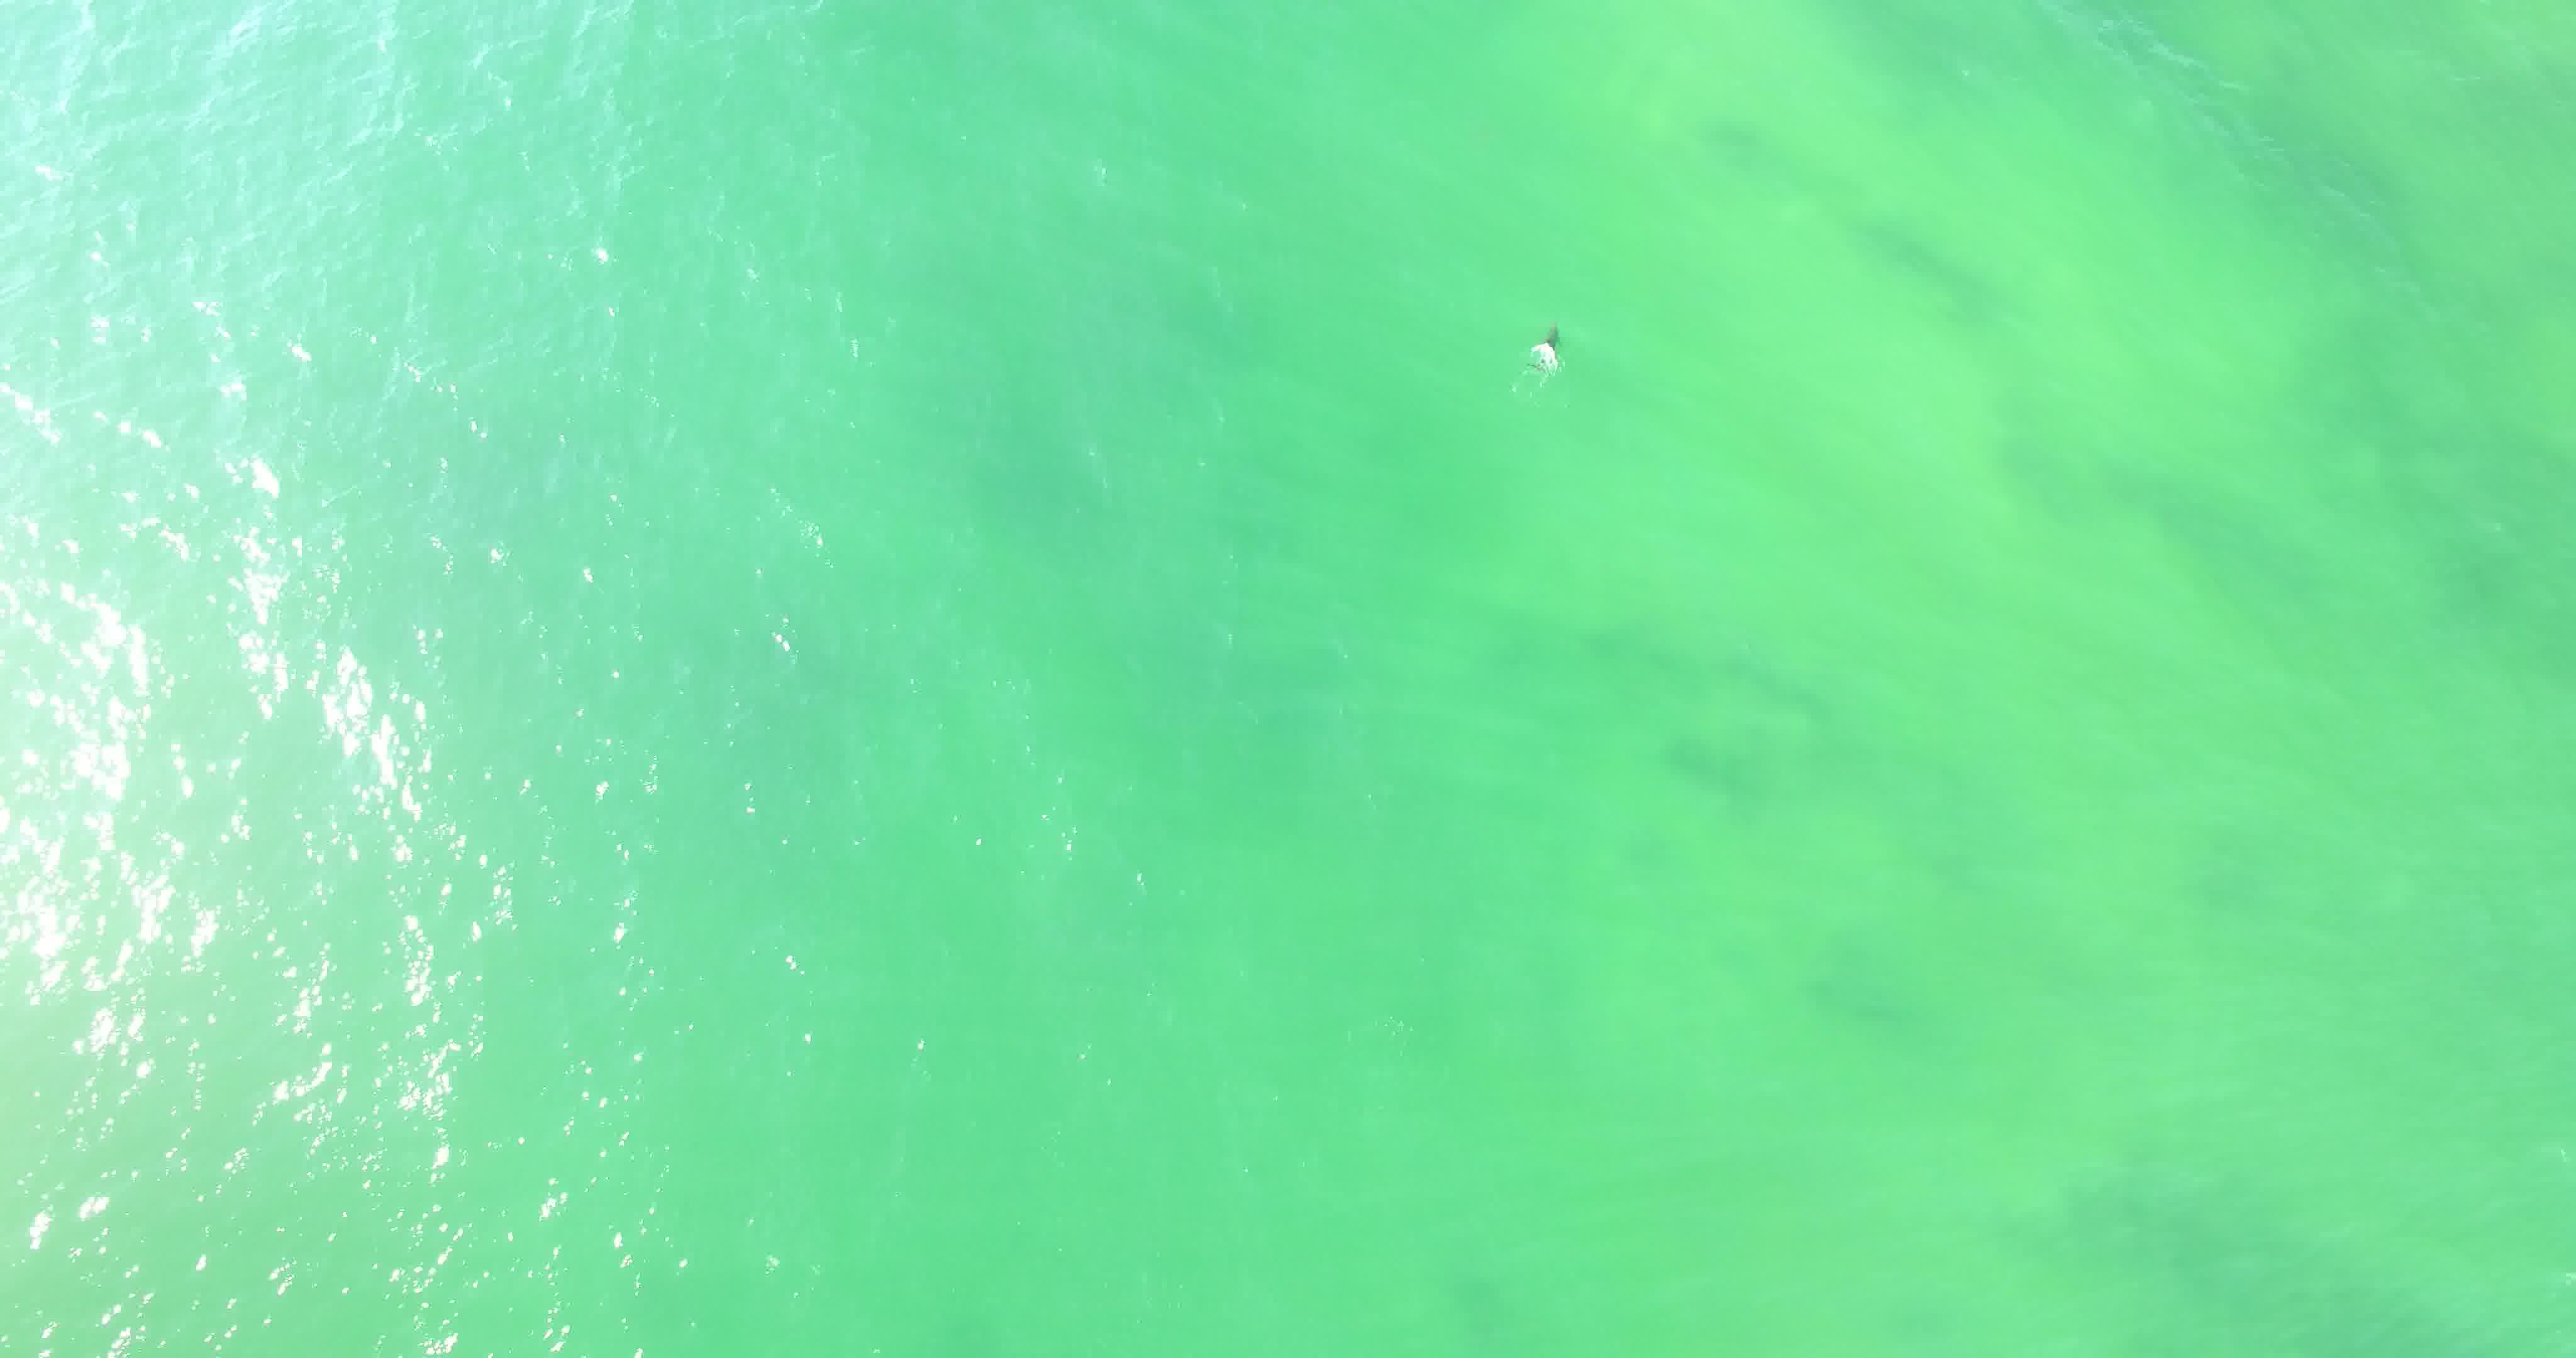dolphin: (1481, 293, 1600, 395)
